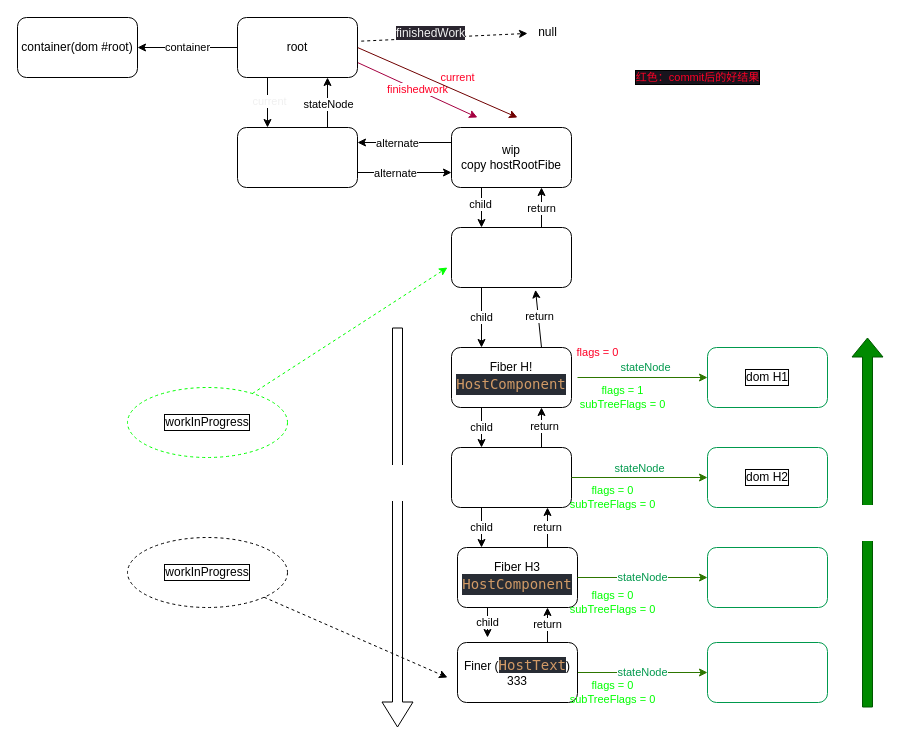
Some shapes in this 901 by 745 pixel diagram are drawn without their labels. The shapes that lost their labels are listed below. From the top down, each one's centre as x and y in pixels, then its label:
At pixel 297 157: "hostRootFiber ( HostRoot )".
At pixel 511 257: "App".
At pixel 511 477: "Fiber H2 HostComponent".
At pixel 767 577: "dom H3".
At pixel 767 672: "dom Text".
